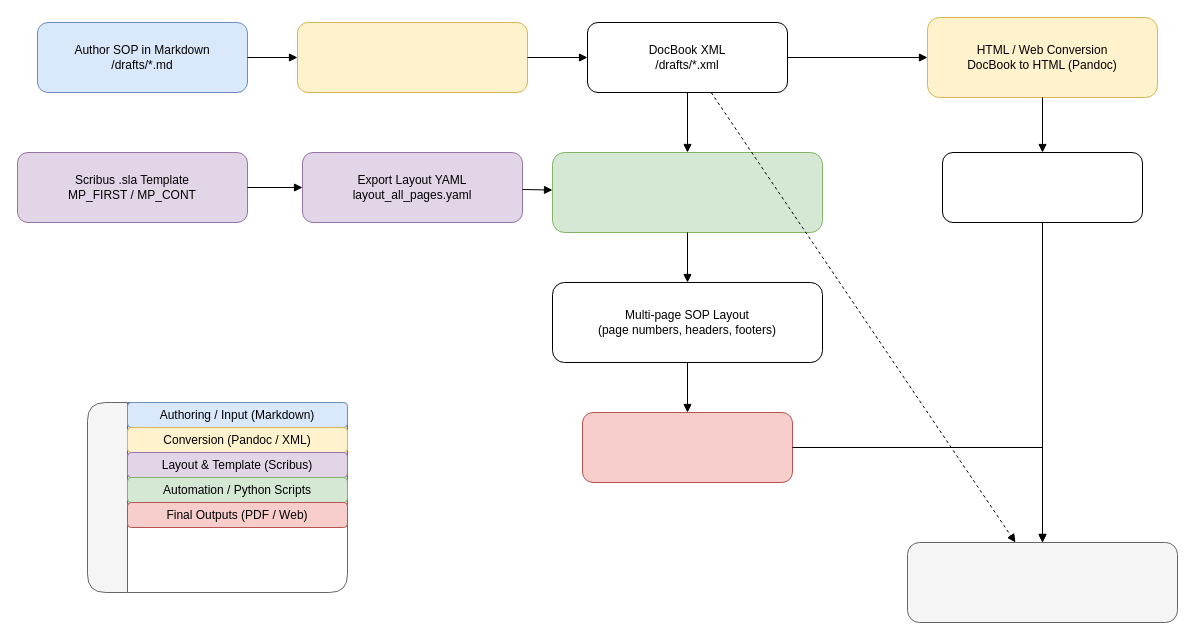
The diagram is 1195 pixels wide and 640 high, and some of its shapes have lost their labels. The shapes that lost their labels are listed below. From the top down, each one's box as (x1, y1, x2, y2) in pixels, then its label:
(296, 22, 528, 92): Convert Markdown to DocBook XML (Pandoc)
(552, 152, 822, 232): DocBook to Scribus Automation (Python inside Scribus)
(942, 152, 1142, 222): Web Output /published/web/
(582, 412, 792, 482): Export PDF /published/pdf/
(86, 402, 348, 592): Legend
(906, 542, 1178, 622): Release Packaging /releases/SOP | STD | REF | APP
